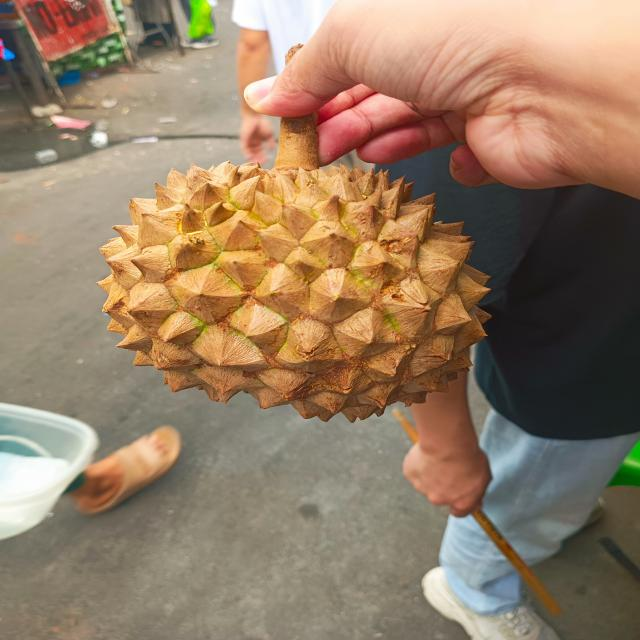mature: (94, 150, 492, 420)
